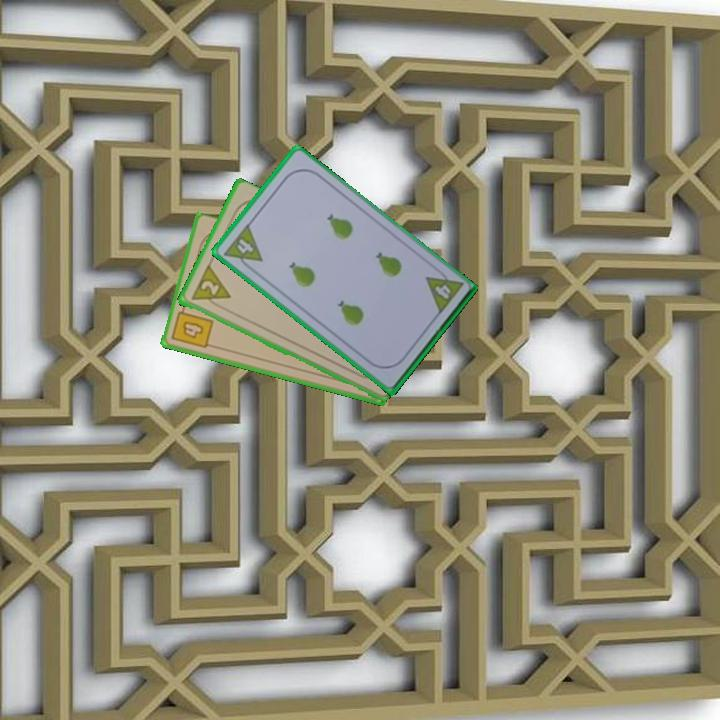2p: (187, 263, 233, 313)
4b: (168, 302, 216, 351)
4p: (220, 220, 265, 275), (422, 264, 465, 318)
